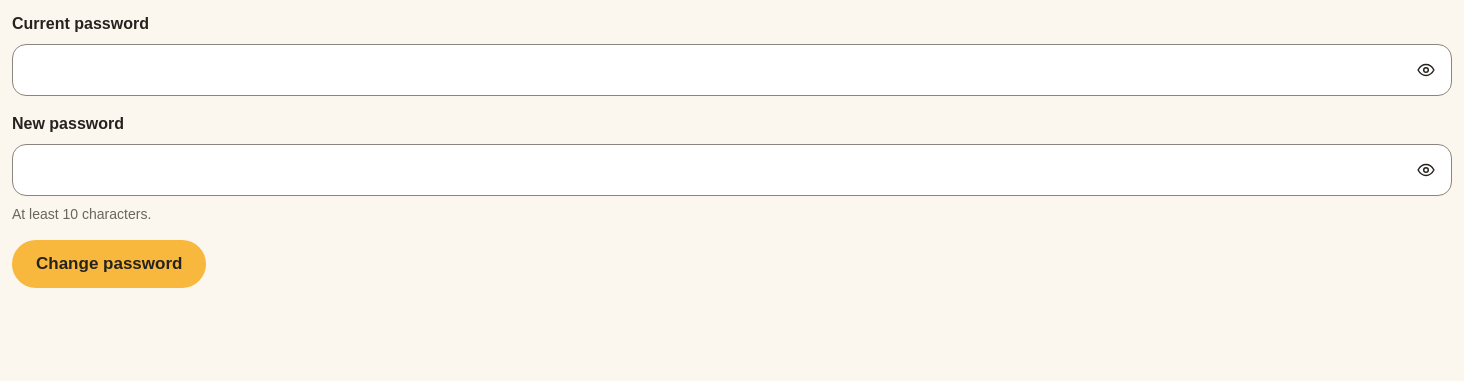
ChangePasswordForm › a unexpected refusal focuses its notice
Type "old-password" into the password field labelled "Current password".
click(732, 70); type("old-password")  # box [12,44,1452,96]
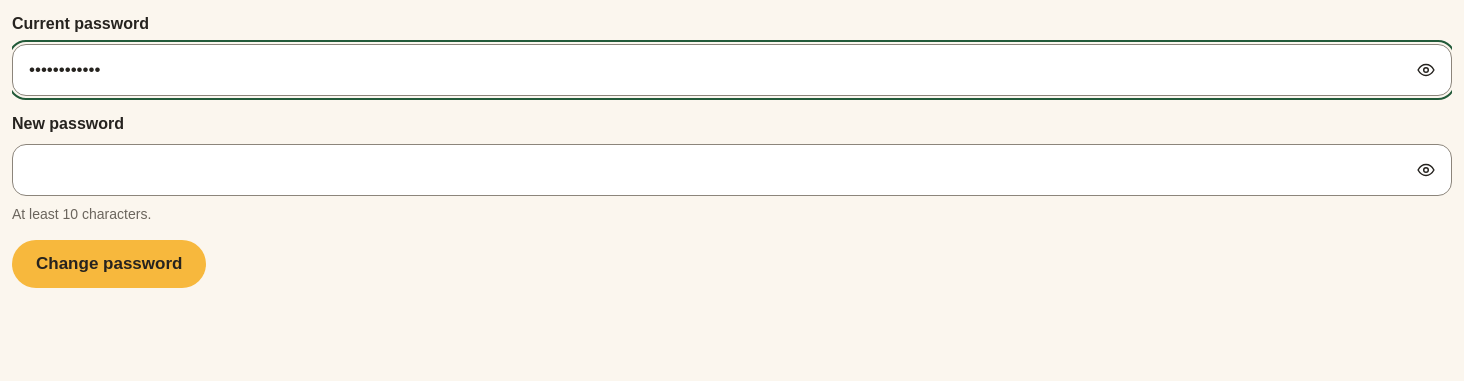
Type "new-password-1" into the password field labelled "New password".
click(732, 170); type("new-password-1")  # box [12,144,1452,196]
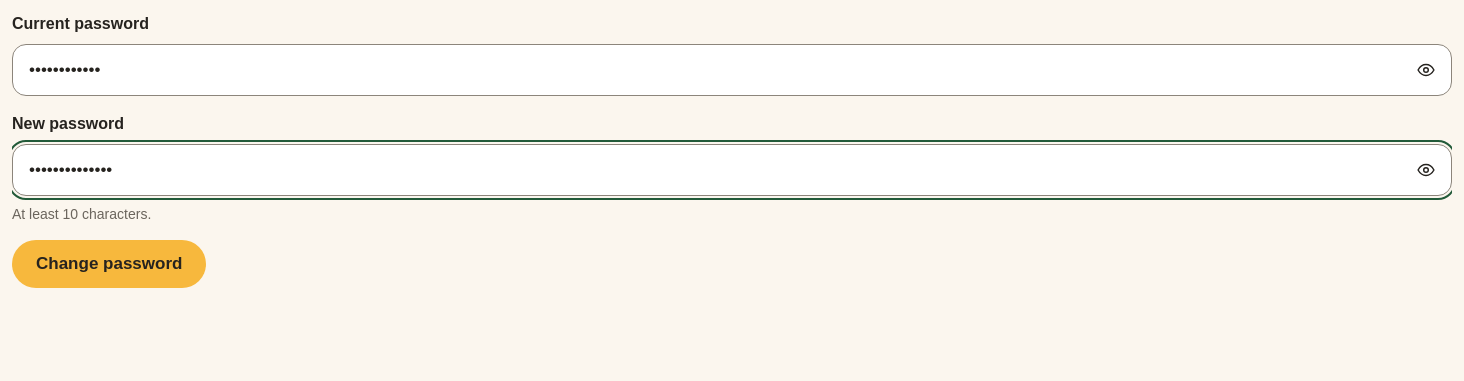
Click the button "Change password".
click(109, 264)  # box [12,240,206,288]
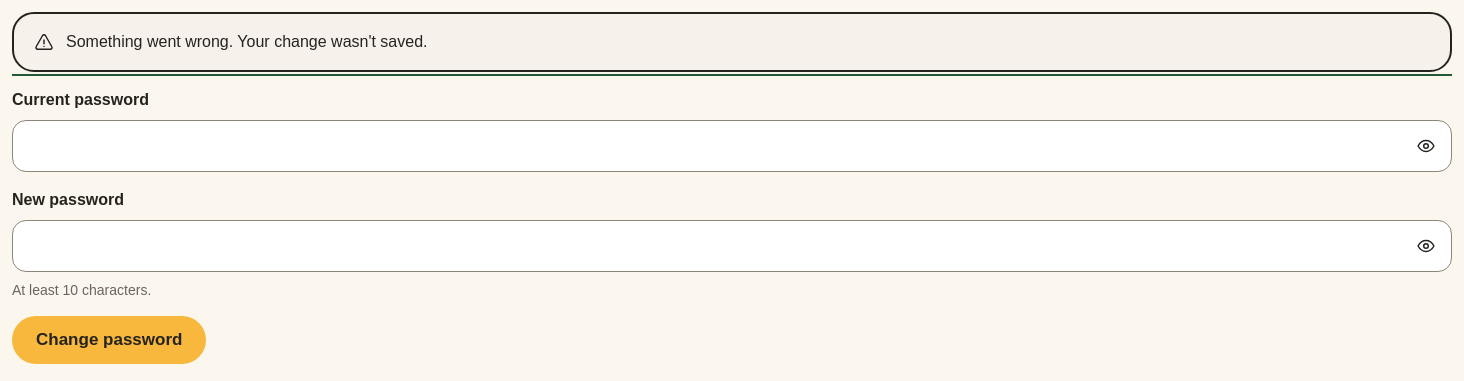
Result: the text "Something went wrong. Your change wasn't saved." is shown at [66,33,428,50]
